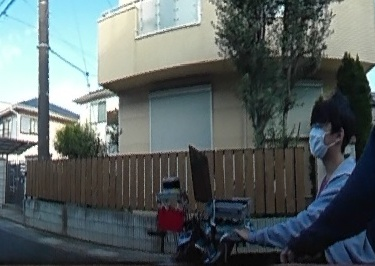person: (261, 87, 361, 265)
